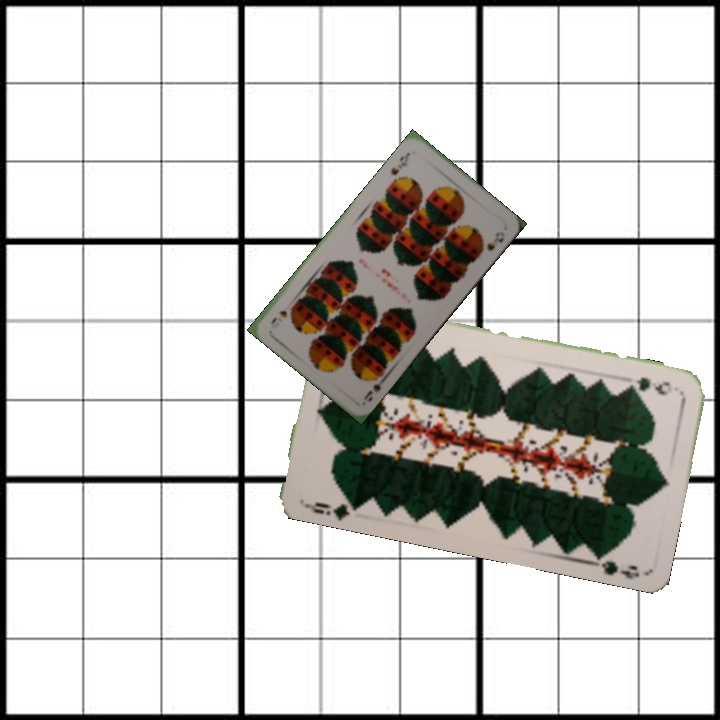G9: (301, 494, 362, 521), (632, 372, 675, 398)
S9: (359, 370, 390, 404), (387, 148, 413, 178)
